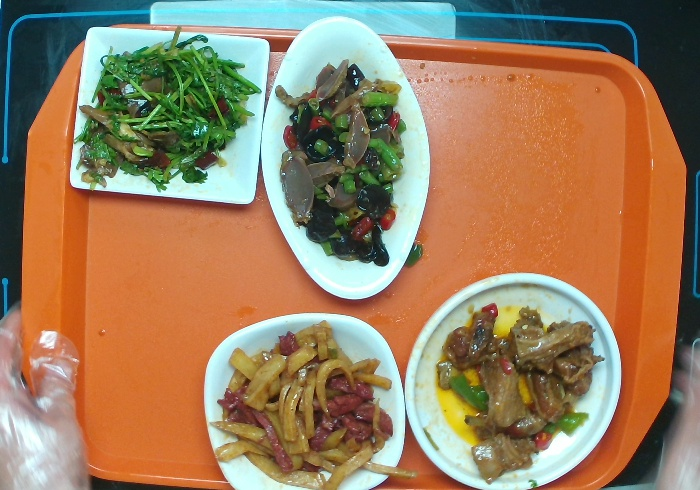HZYJPL-Si_Fang_Die: (69, 25, 271, 212)
HZYJPL-Si_Fang_Yuan_Die: (203, 312, 408, 490)
HZYJPL-Xiao_Yu_Die: (262, 14, 431, 299)
HZYJPL-Xiao_Yuan_Die: (405, 270, 622, 490)
